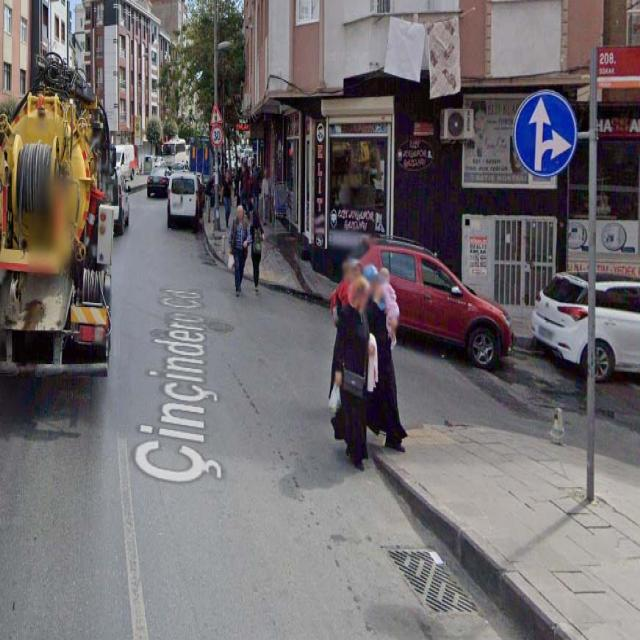30: (210, 126, 223, 146)
ilerisag: (512, 90, 576, 178)
